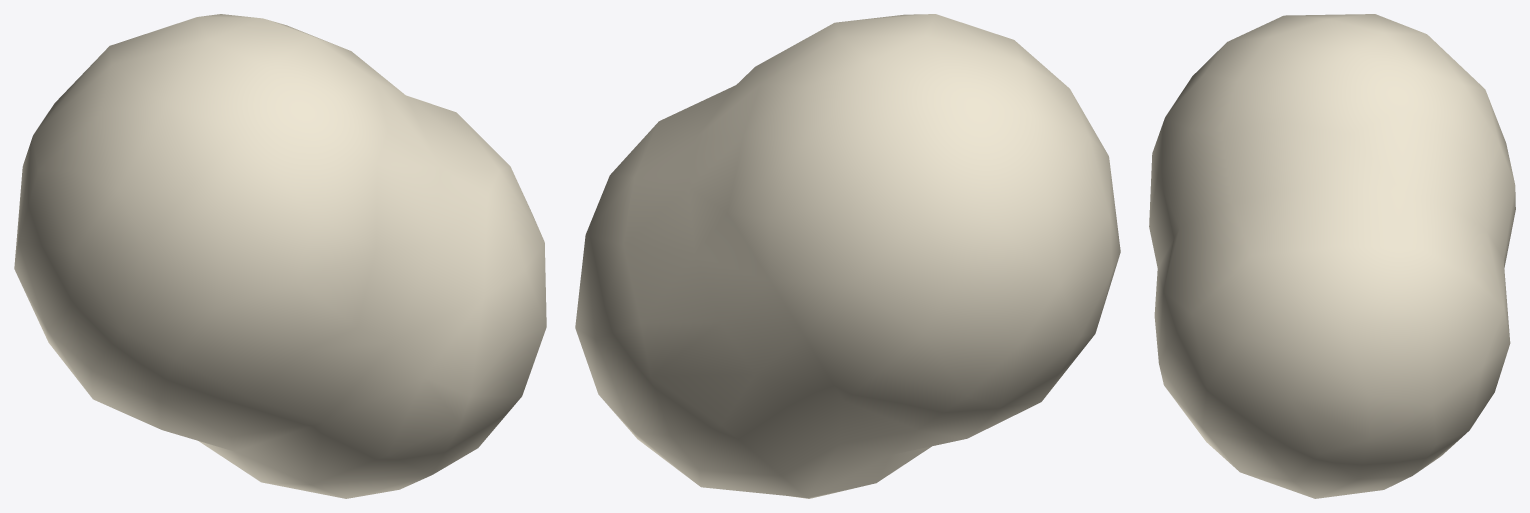
File: caudal_4.glb
3 renders of one model, left to right at view 1: azimuth 30°, elevation 25°; view 2: azimuth 150°, elevation 25°; view 3: azimuth 270°, elevation 25°, orthographic. The views are drawn at different scales.
Visible parts, largest first — view 1: geometry_0; view 2: geometry_0; view 3: geometry_0.
Part boxes in pixels (x1,y1,x2,y2): geometry_0: [14, 14, 546, 498]; geometry_0: [575, 14, 1120, 498]; geometry_0: [1149, 14, 1515, 498].
Bounding box in the file's own units: 0.0595 × 0.0566 × 0.0465.
